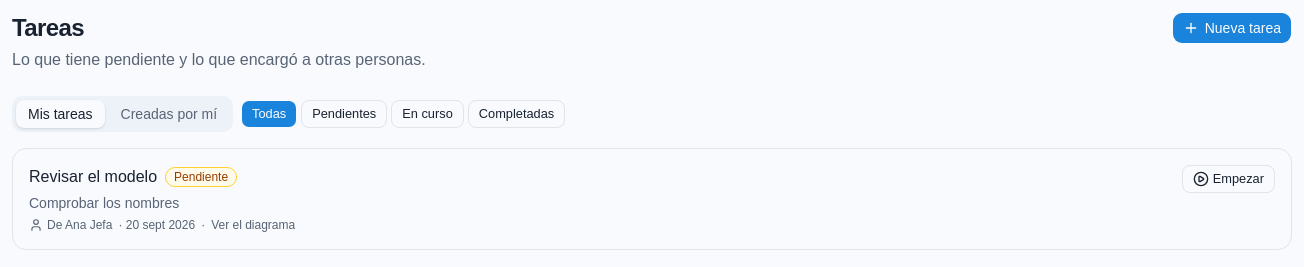
it: TasksPage (CU-21) › cambia a las tareas que creé yo
Click the tab "Creadas por mí": click(169, 114) [109, 100, 229, 128]
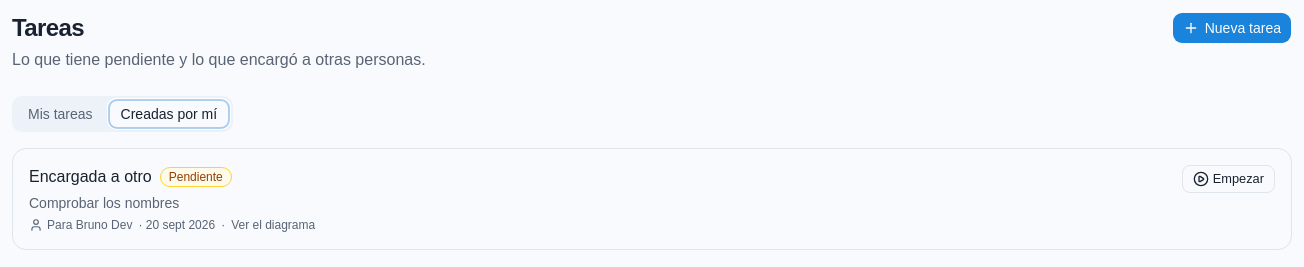
Expected: the text "Encargada a otro" is shown, [29, 168, 152, 185]
